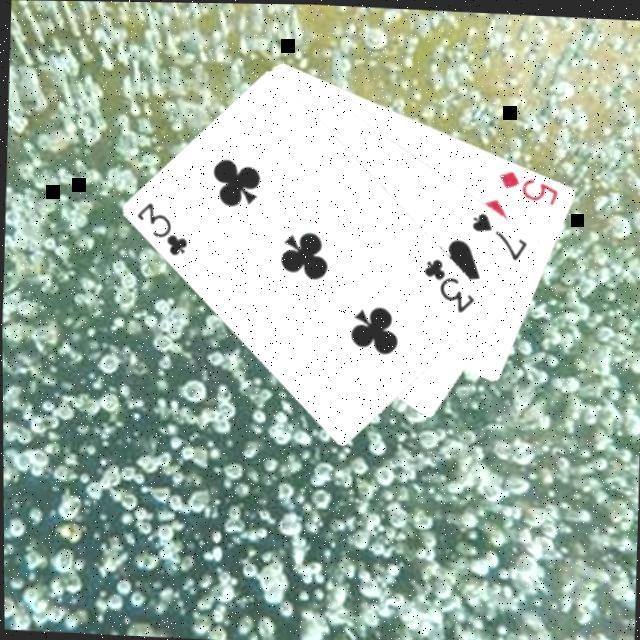3C: (420, 254, 481, 317), (133, 198, 194, 261)
5D: (496, 166, 564, 208)
7S: (468, 208, 534, 264)
